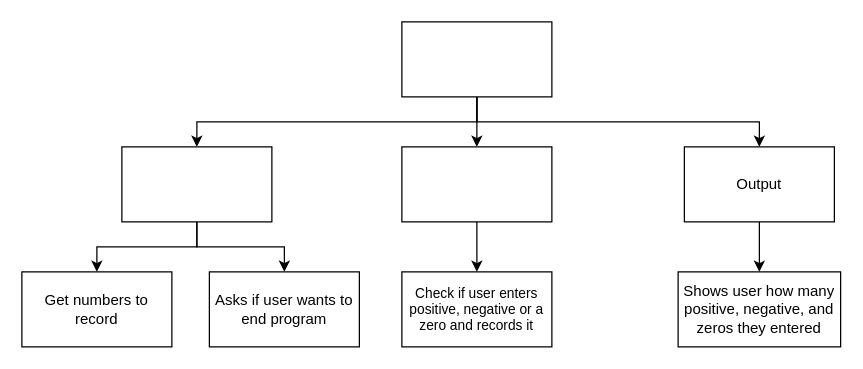
This 863x369 diagram has some shape labels left out. Each missing label, with the centre of its shape:
Input: (196,184)
Integer Program: (476,59)
Process: (476,184)
